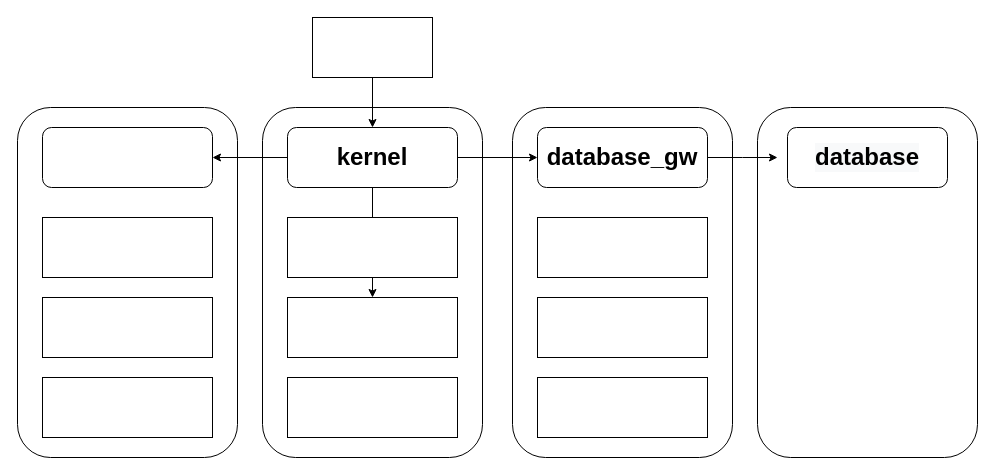
Image size: 995x475. Some labels were removed from this diagram. Here are the shapes that lost their labels. From the top down, the centre of each, then its label:
At point 372,47: "main.cpp".
At point 127,157: "interface".
